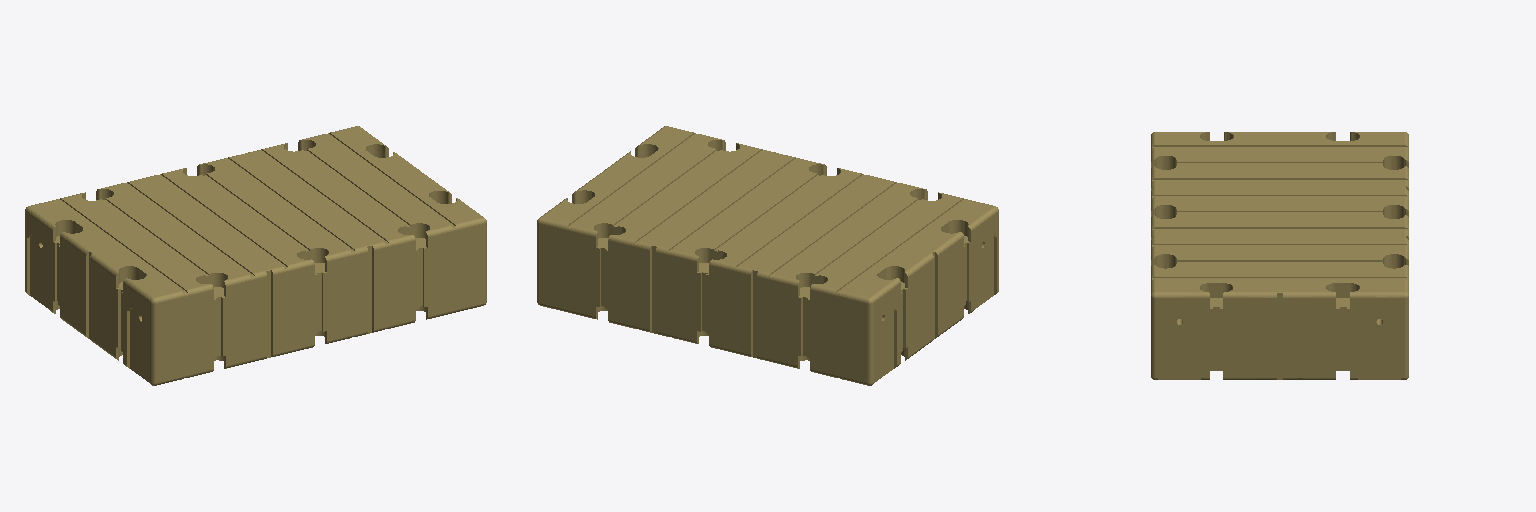
File: dock.obj
3 views of the same model, side by side, from view 1: azimuth 30°, elevation 25°; view 2: azimuth 150°, elevation 25°; view 3: azimuth 270°, elevation 25° (orthographic).
Parts seen in each view (by area): view 1: RB_Dock_[STL]; view 2: RB_Dock_[STL]; view 3: RB_Dock_[STL].
Part boxes in pixels (bbox=[...]): RB_Dock_[STL]: bbox=[25, 126, 486, 385]; RB_Dock_[STL]: bbox=[537, 126, 998, 385]; RB_Dock_[STL]: bbox=[1151, 132, 1408, 379].
Size of the model in its own units: 7.43 by 1.86 by 4.95.